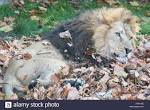lion: (7, 7, 138, 102)
